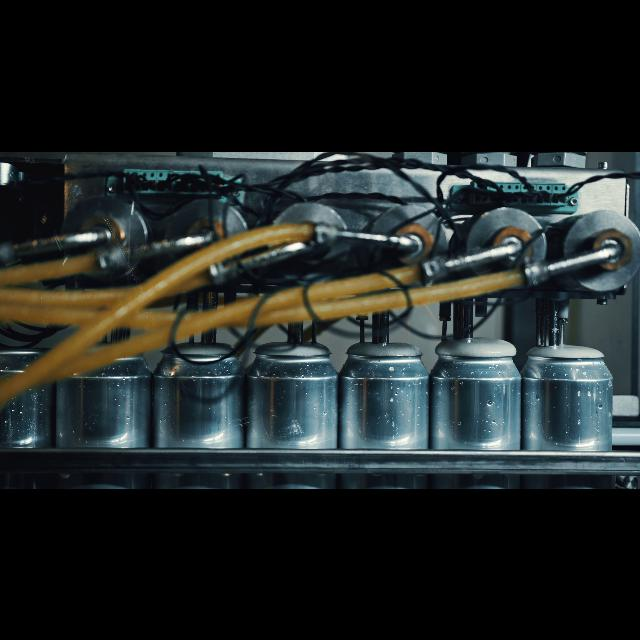empty: (61, 344, 146, 488), (0, 342, 54, 488)
full: (432, 328, 522, 488), (340, 328, 424, 488), (154, 332, 236, 488), (249, 332, 331, 488), (526, 336, 610, 488)
